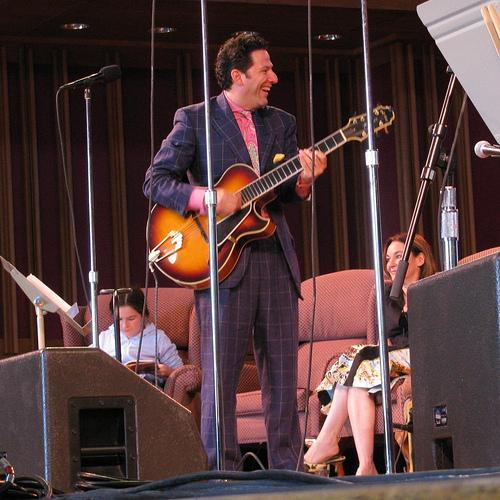person: (143, 30, 328, 476)
